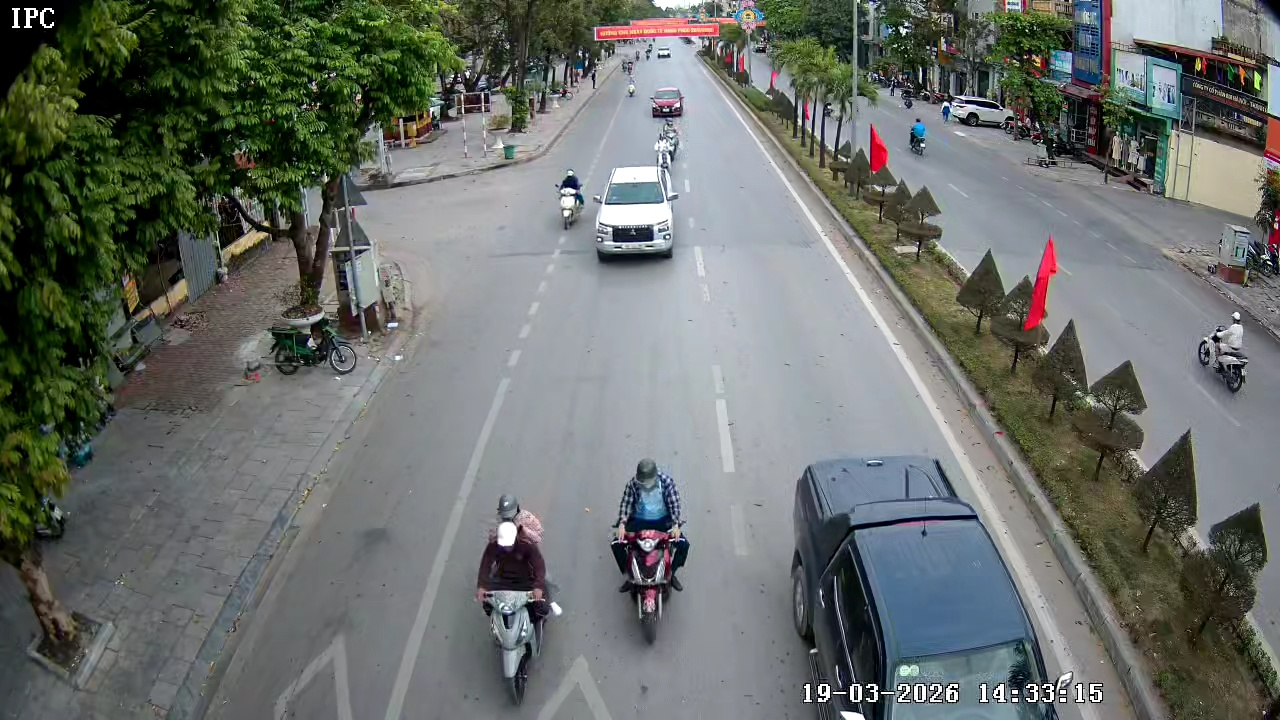car: (786, 455, 1098, 719), (593, 165, 680, 263), (652, 83, 685, 119)
motorbike: (474, 493, 564, 702), (608, 457, 693, 645), (265, 307, 362, 378), (1200, 311, 1248, 395), (554, 166, 587, 230), (655, 135, 673, 169)
